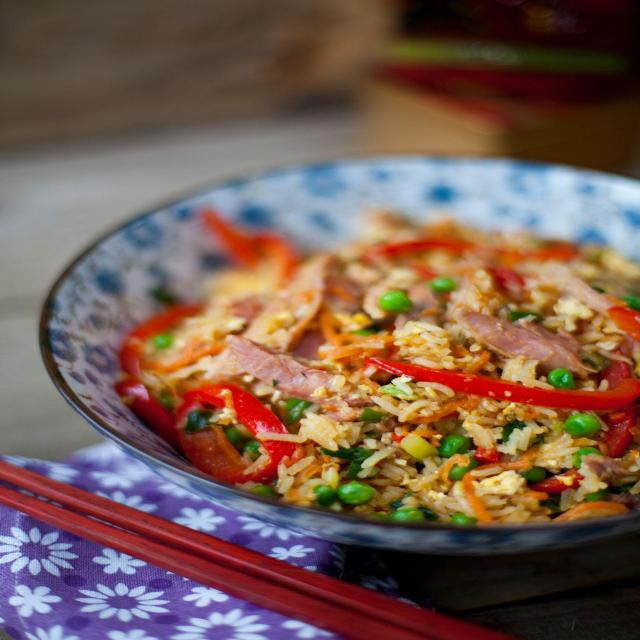Nasi Goreng: (116, 208, 638, 526)
